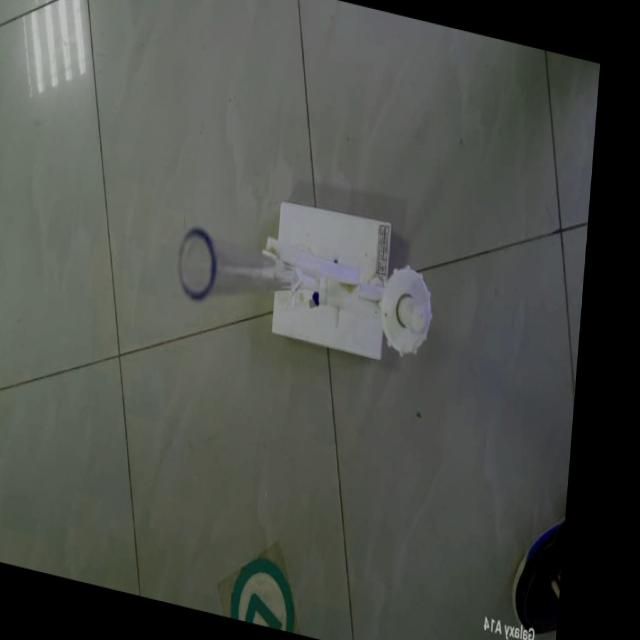Biurette: (168, 189, 336, 380)
